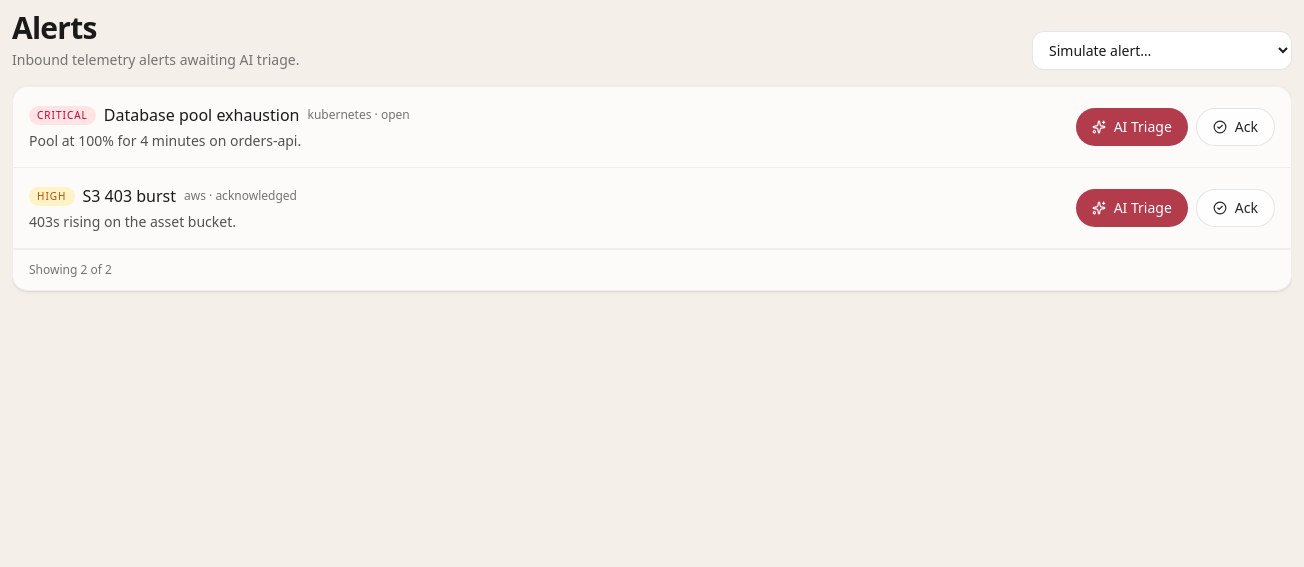
Scenario: triages an alert and shows the recommendation with a link to its timeline
Click the button "AI Triage" in the row of "open".
click(1132, 127)  # box [1076,108,1188,146]
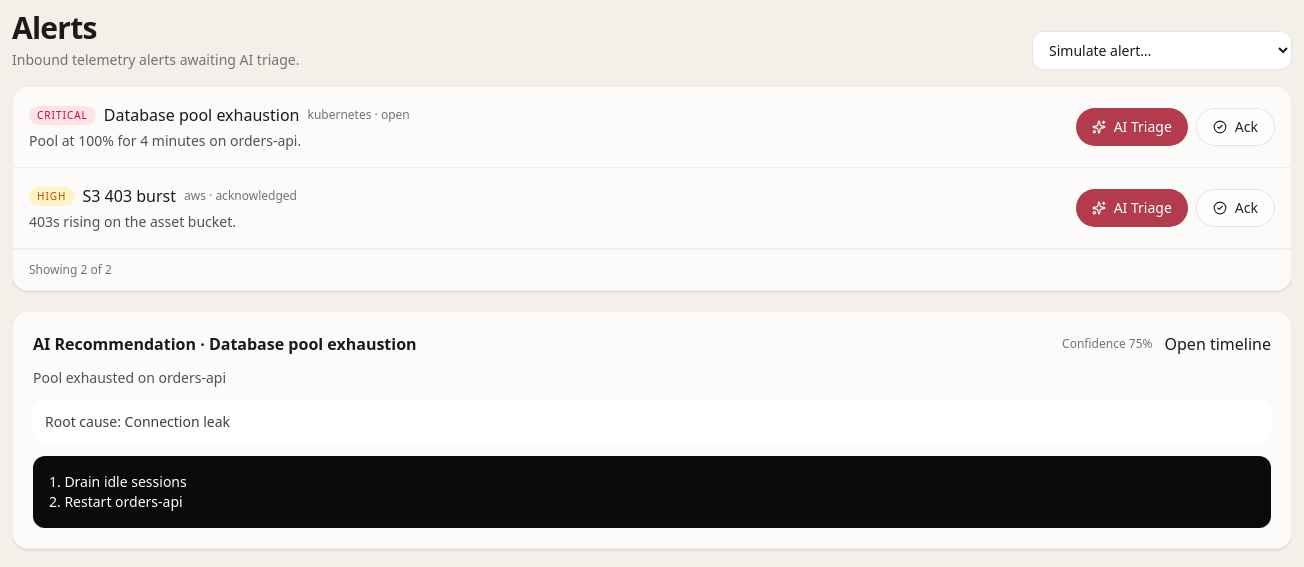
Expected: the heading "AI Recommendation · Database pool exhaustion" is shown, [33,332,417,356]
Expected: the text "Confidence 75%" is shown, [1062,336,1152,352]
Expected: the text "Root cause: Connection leak" is shown, [33,400,1271,444]
